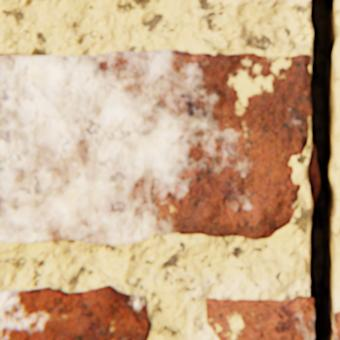brick: (0, 50, 311, 243), (0, 284, 150, 339)
broken_brick: (206, 294, 314, 339), (334, 310, 339, 339)
crack: (307, 0, 339, 339)
